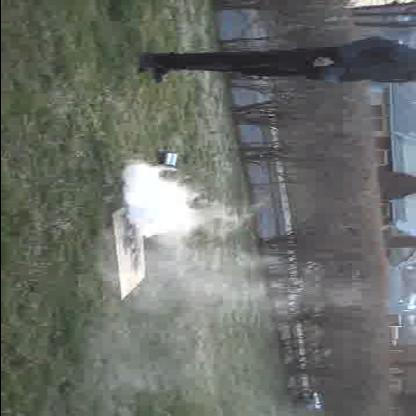Smoke: (124, 164, 224, 250)
